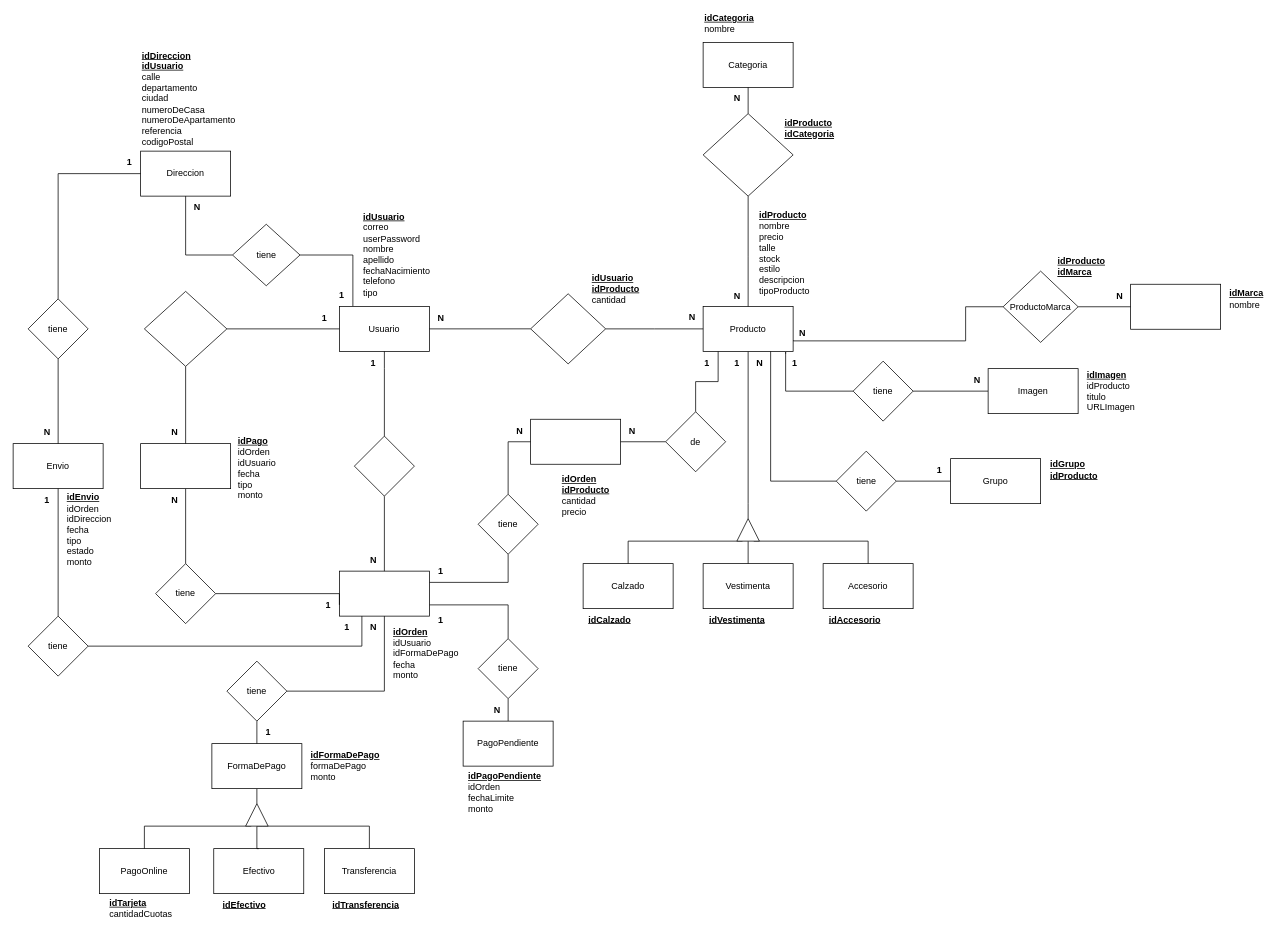
Some shapes in this 1286 by 937 pixel diagram are drawn without their labels. Here are the shapes that lost their labels. From the top down, the box of each, then its label:
(702, 113, 793, 196): ProductoCategoria
(1130, 284, 1221, 329): Marca
(144, 291, 227, 366): HistorialDePago
(530, 293, 606, 364): Carrito
(530, 418, 621, 464): OrdenDetalle
(140, 443, 231, 489): Pago
(354, 435, 414, 496): compra
(339, 570, 429, 616): Orden
